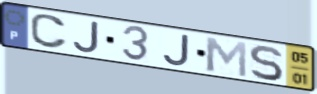3: (119, 24, 150, 63)
C: (28, 13, 70, 51)
J: (71, 19, 102, 55), (161, 33, 192, 68)
M: (203, 35, 249, 79)
S: (247, 44, 286, 82)
